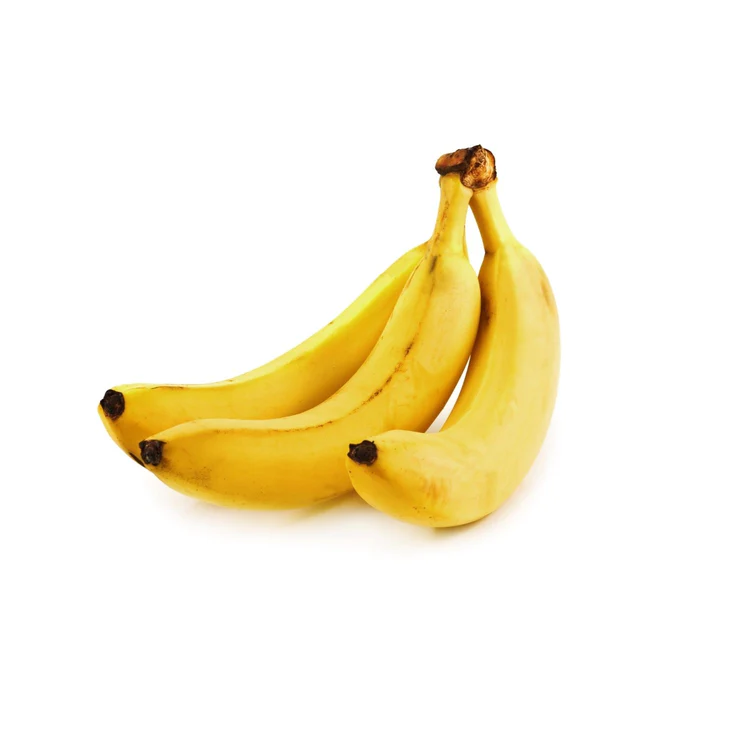banana: (95, 159, 567, 532)
